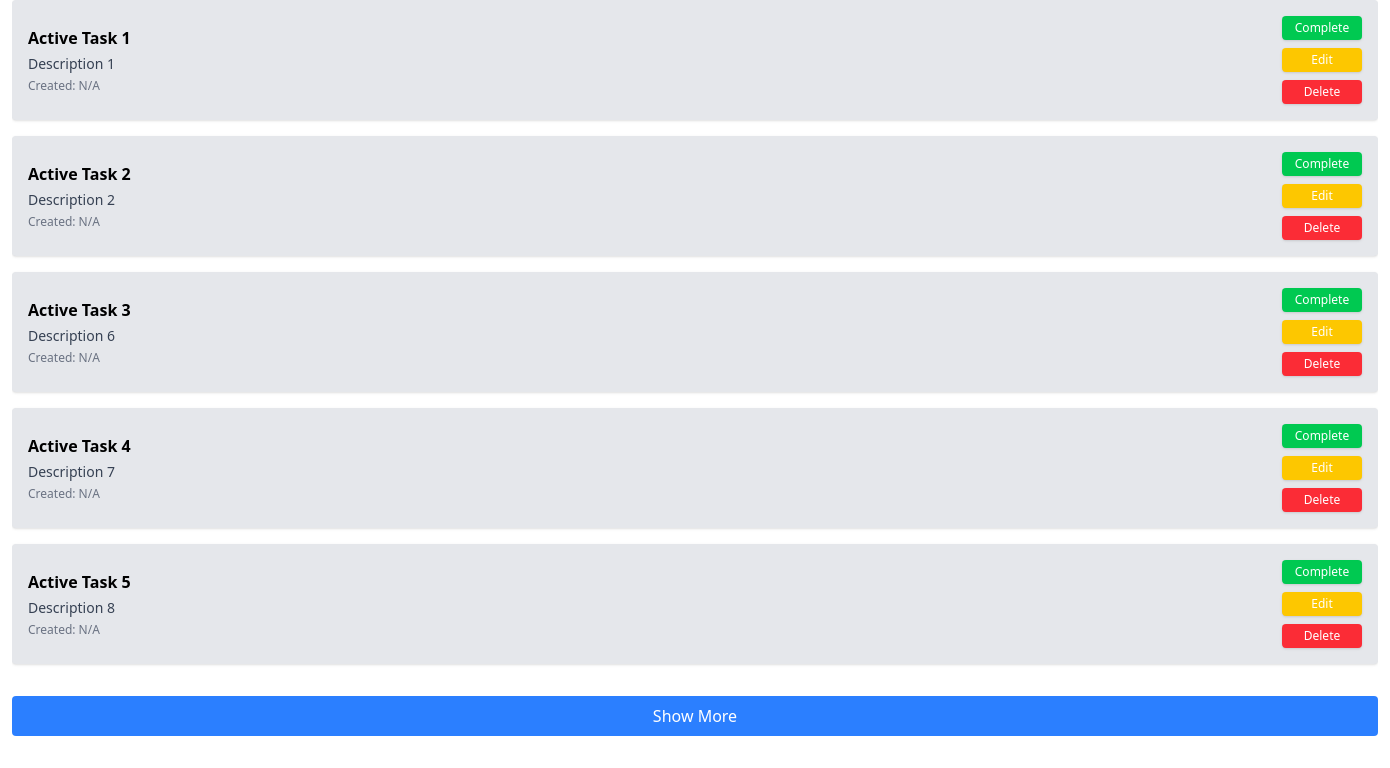
Scenario: TaskList › Pagination › shows all tasks when "Show More" button is clicked
What coordinates should you click on to do the following:
click the button "Show More"
I would click on:
 (695, 716)
Its box is [12,696,1378,736].
(page scrolled)
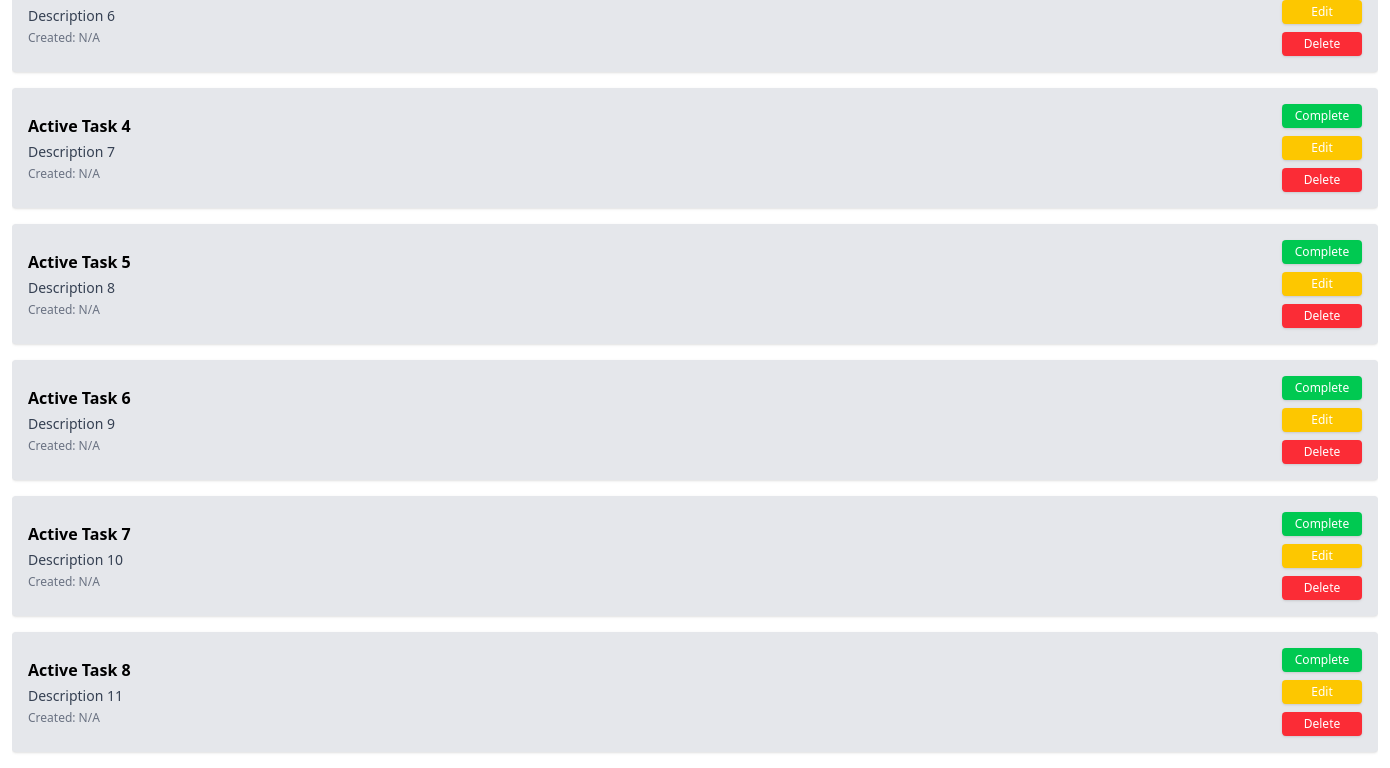
Check: the text "Active Task 6" is shown, box [28,387,131,409]
Check: the text "Active Task 7" is shown, box [28,523,131,545]
Check: the text "Active Task 8" is shown, box [28,659,131,681]
